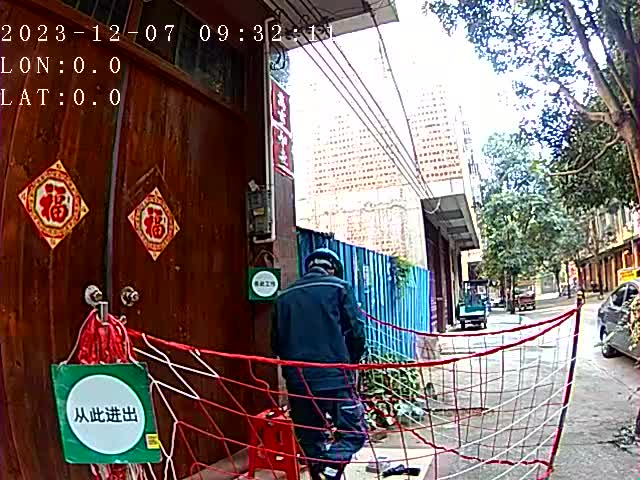halt: (306, 248, 346, 280)
